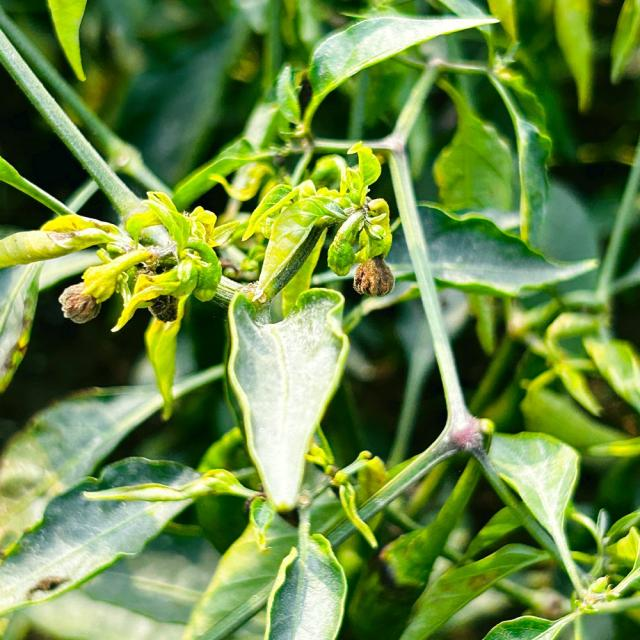Chilli_Leaf_Curl: (1, 0, 638, 638), (46, 189, 236, 420), (222, 285, 350, 513), (287, 10, 501, 136), (241, 140, 393, 308), (480, 427, 590, 603), (262, 529, 348, 639), (46, 0, 88, 82)
